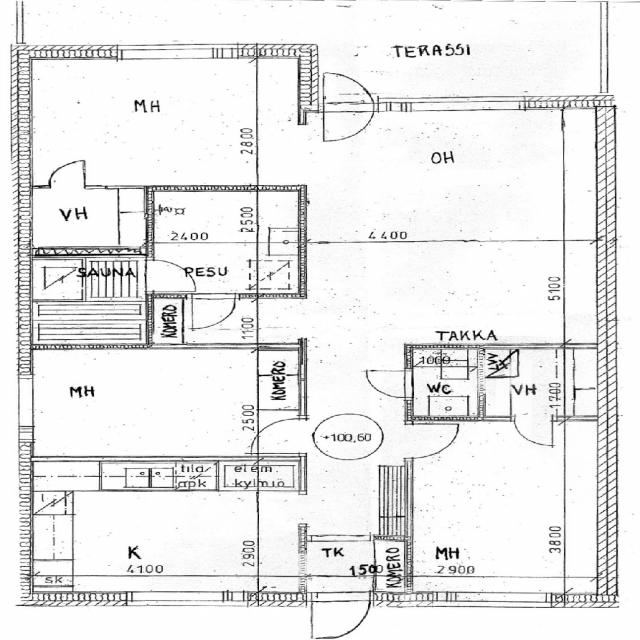door: (312, 592, 369, 640), (323, 97, 373, 144), (323, 64, 373, 110), (247, 419, 305, 453), (405, 424, 462, 458), (146, 260, 200, 291), (192, 294, 234, 328), (366, 371, 412, 398), (515, 416, 553, 446), (50, 161, 84, 190)
